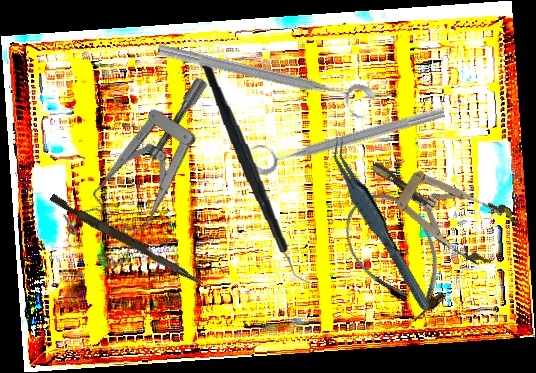Cannula: (329, 177, 466, 333)
Chopper: (198, 52, 316, 292)
Fixation Ring: (152, 38, 378, 123), (248, 91, 447, 178)
Pusher: (47, 193, 208, 287)
Speculum: (37, 74, 265, 279), (357, 136, 523, 273)
Tissue Forceps: (326, 130, 433, 321)
